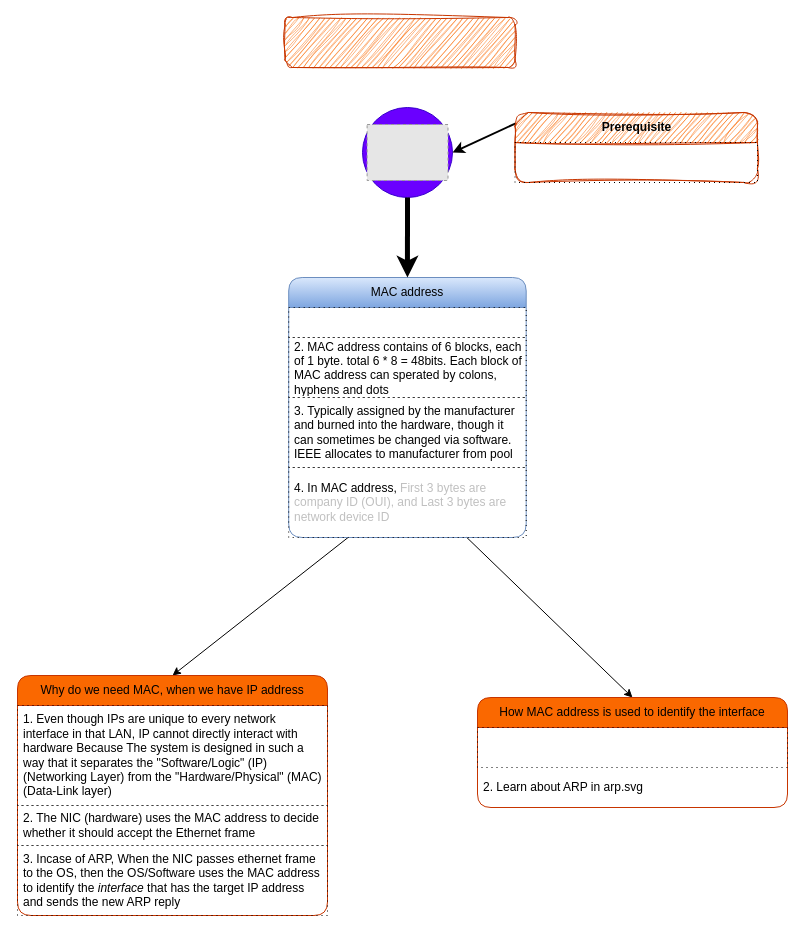
Image size: 805x933. Some labels were removed from this diagram. Grey dashed boxes stand in for pictures. The shapes that lost their labels are listed below. From the top down, each one's centre as x and y in pixels, then its label:
At (399,42): "Media access control".
At (636,162): "1. Should know about network interfaces ( interfaces.svg )".
At (407,322): "1. MAC address is represent in Hex".
At (632,747): "1. Using ARP(Address Resolution Protocol)".
